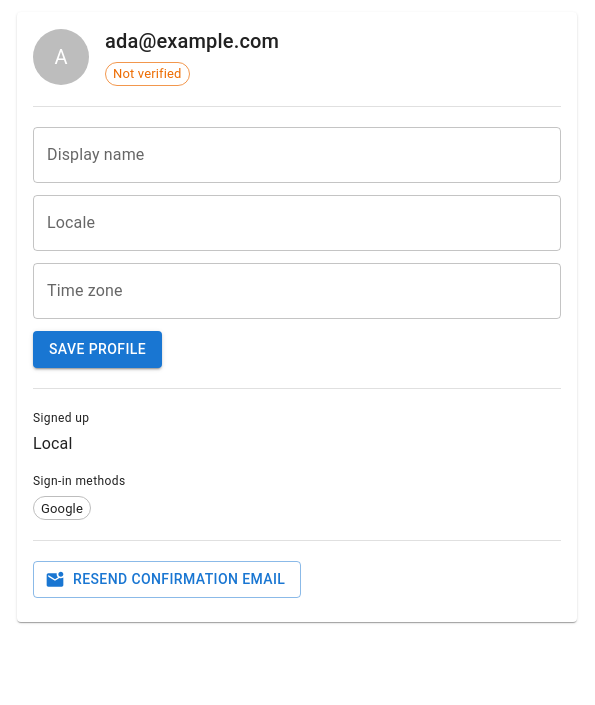
Test: UserService › shows a wait message when confirmation email is rate limited
The image size is (595, 705).
Click the button "Resend confirmation email": (167,580) [33,561,301,598]
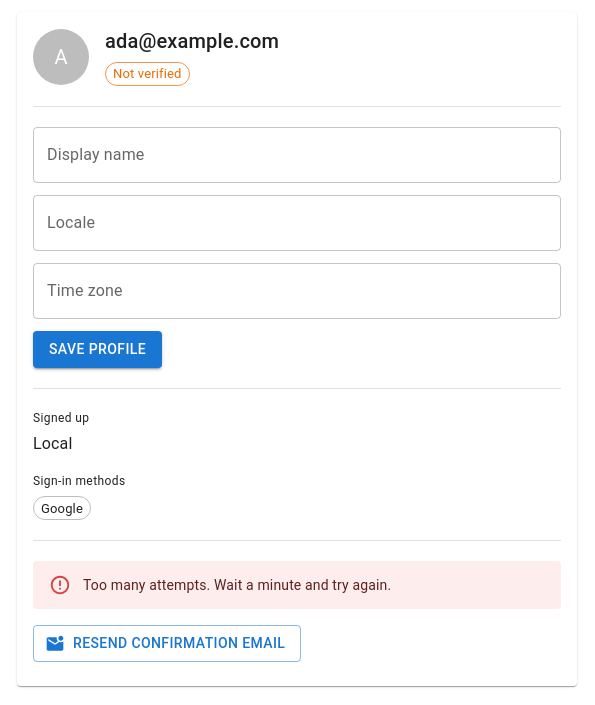
expect the text "Too many attempts. Wait a minute and try again." is shown: met, box [83,577,391,593]
